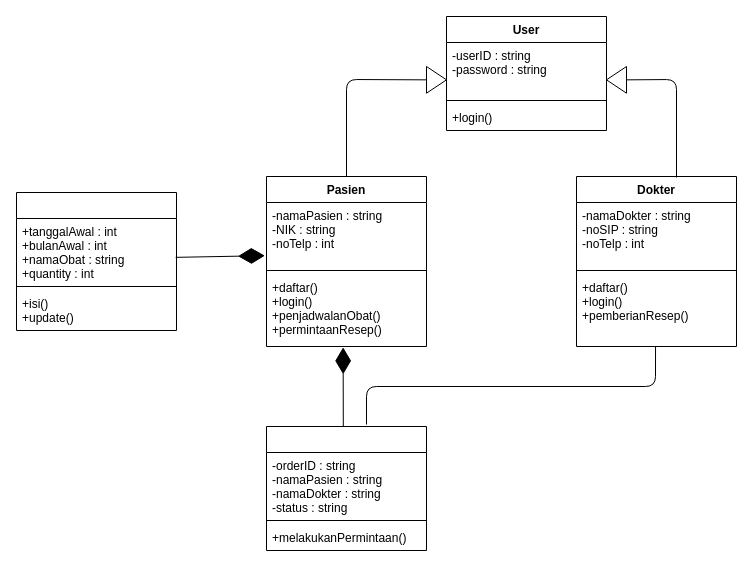
The diagram is 753 pixels wide and 567 high, and some of its shapes have lost their labels. The box of each missing label's shape, as (x1, y1, x2, y2) in pixels:
PenjadwalanObat: (16, 192, 176, 330)
PermintaanResep: (266, 426, 426, 550)
